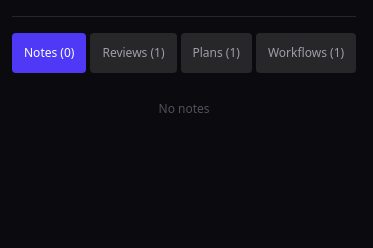
TaskActivityTabs › shows related reviews plans workflows and artifact filenames
The width and height of the screenshot is (373, 248).
Click the tab "Reviews (1)" at [133, 53], box 90,33 -> 176,73
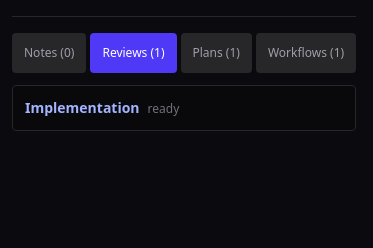
Click the tab "Plans (1)" at [216, 53], box 180,33 -> 252,73
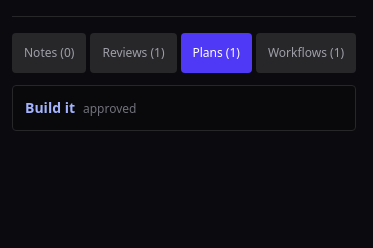
Now the link "Build it" has attribute href="/plans/pl-1", box 12,85 -> 356,131
Click the tab "Workflows (1)" at [306, 53], box 256,33 -> 356,73
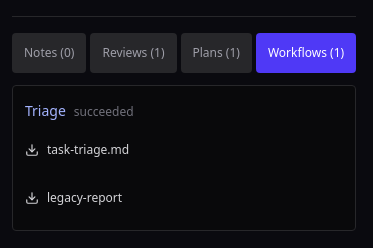
Now the button "task-triage.md" is shown, box 25,130 -> 129,170
Now the button "legacy-report" is shown, box 25,178 -> 122,218
